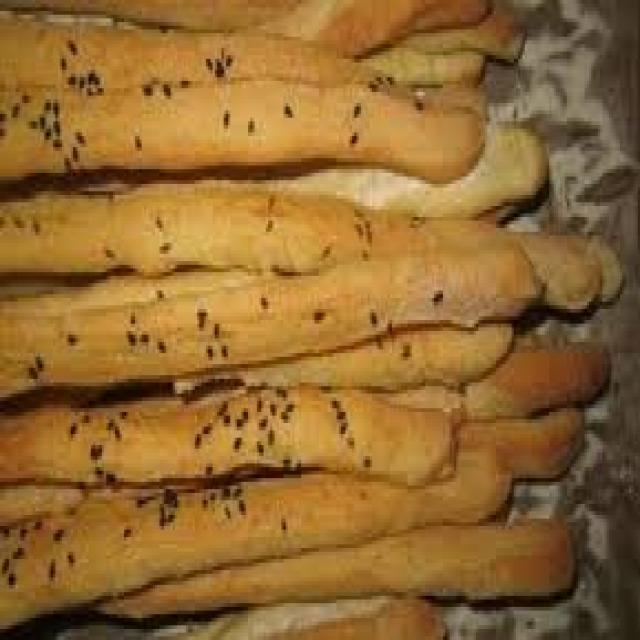Grissini: (2, 11, 624, 599)
